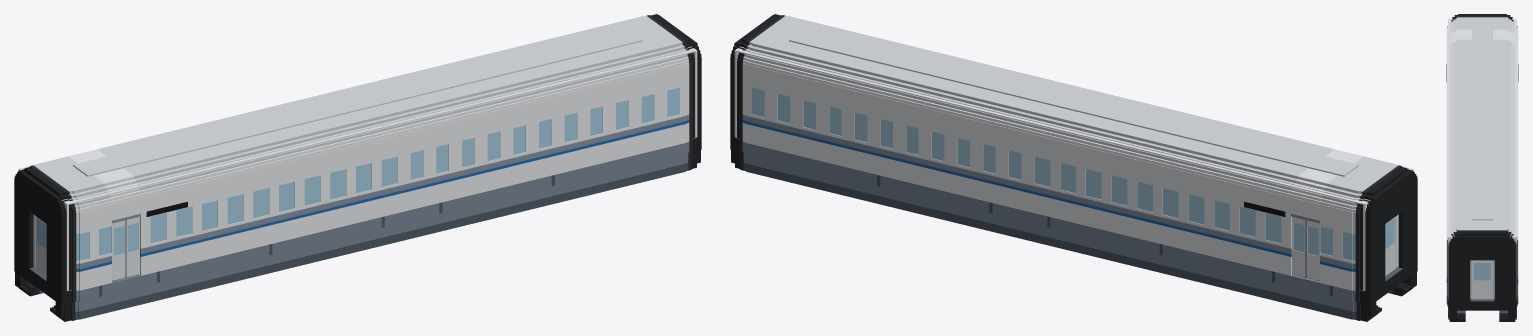
File: crrc600_car.obj
3 renders of one model, left to right at view 1: azimuth 30°, elevation 25°; view 2: azimuth 150°, elevation 25°; view 3: azimuth 270°, elevation 25°, orthographic. The views are drawn at different scales.
Visible parts, largest first — view 1: SHELL, SHELL_roof, SHELL_diaphragm, SHELL_ceiling, EXTERNAL_DOOR_4_CG_DR1_TOGGLE_TL_-0.49_X, EXTERNAL_DOOR_5_CG_DR1_TOGGLE_TL_0.49_X, SHELL_end, CONNECTING_DOOR_1_CG_CR_TOGGLE_TL_0.98_Z; view 2: SHELL, SHELL_roof, SHELL_diaphragm, SHELL_ceiling, EXTERNAL_DOOR_7_CG_DL1_TOGGLE_TL_-0.49_X, EXTERNAL_DOOR_8_CG_DL1_TOGGLE_TL_0.49_X, SHELL_end, CONNECTING_DOOR_1_CG_CR_TOGGLE_TL_0.98_Z; view 3: SHELL, SHELL_diaphragm, SHELL_roof, SHELL_ceiling, CONNECTING_DOOR_2_CG_CF_TOGGLE_TL_0.98_Z, SHELL_end, SHELL_floor.
Boxes of the visible parts, x1,y1,x2,y2 form: SHELL: (19, 14, 697, 321); SHELL_roof: (73, 29, 642, 176); SHELL_diaphragm: (14, 14, 701, 318); SHELL_ceiling: (21, 47, 695, 204); EXTERNAL_DOOR_4_CG_DR1_TOGGLE_TL_-0.49_X: (111, 220, 126, 280); EXTERNAL_DOOR_5_CG_DR1_TOGGLE_TL_0.49_X: (126, 216, 139, 277); SHELL_end: (18, 46, 697, 290); CONNECTING_DOOR_1_CG_CR_TOGGLE_TL_0.98_Z: (35, 216, 46, 275); SHELL: (734, 14, 1412, 321); SHELL_roof: (789, 29, 1358, 176); SHELL_diaphragm: (730, 14, 1417, 318); SHELL_ceiling: (736, 47, 1411, 204); EXTERNAL_DOOR_7_CG_DL1_TOGGLE_TL_-0.49_X: (1305, 220, 1320, 280); EXTERNAL_DOOR_8_CG_DL1_TOGGLE_TL_0.49_X: (1292, 216, 1305, 277); SHELL_end: (734, 46, 1413, 290); CONNECTING_DOOR_1_CG_CR_TOGGLE_TL_0.98_Z: (1385, 216, 1396, 275); SHELL: (1446, 14, 1518, 321); SHELL_diaphragm: (1448, 15, 1516, 320); SHELL_roof: (1472, 26, 1492, 220); SHELL_ceiling: (1448, 19, 1516, 236); CONNECTING_DOOR_2_CG_CF_TOGGLE_TL_0.98_Z: (1472, 260, 1492, 299); SHELL_end: (1448, 18, 1516, 298); SHELL_floor: (1471, 260, 1493, 297).
Size of the model in its own units: 24.92 by 4.67 by 3.42.
Materials: 1 (1 with a texture image).
